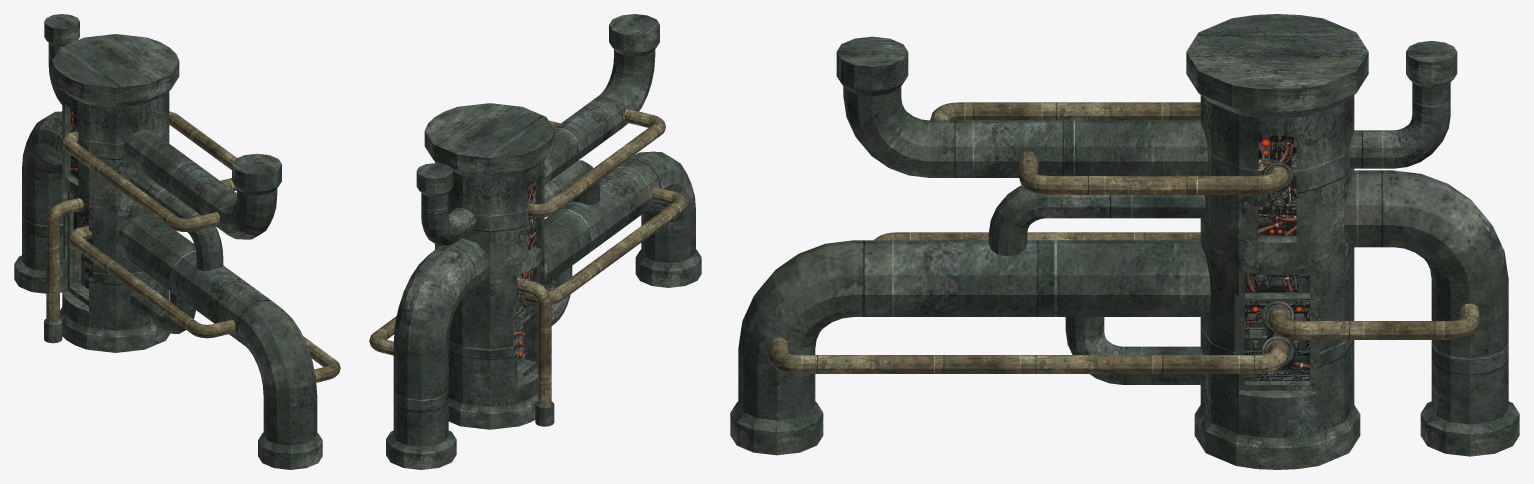
File: bunker_mine_pipes_s01_l0.fbx
3 views of the same model, side by side, from view 1: azimuth 30°, elevation 25°; view 2: azimuth 150°, elevation 25°; view 3: azimuth 270°, elevation 25° (orthographic). The views are drawn at different scales.
Parts seen in each view (by area): view 1: mesh_node; view 2: mesh_node; view 3: mesh_node.
Boxes of the visible parts, bbox=[...] form: mesh_node: bbox=[14, 14, 340, 469]; mesh_node: bbox=[369, 14, 701, 469]; mesh_node: bbox=[730, 14, 1519, 469].
Size of the model in its own units: 2.68 by 5.5 by 10.24.
